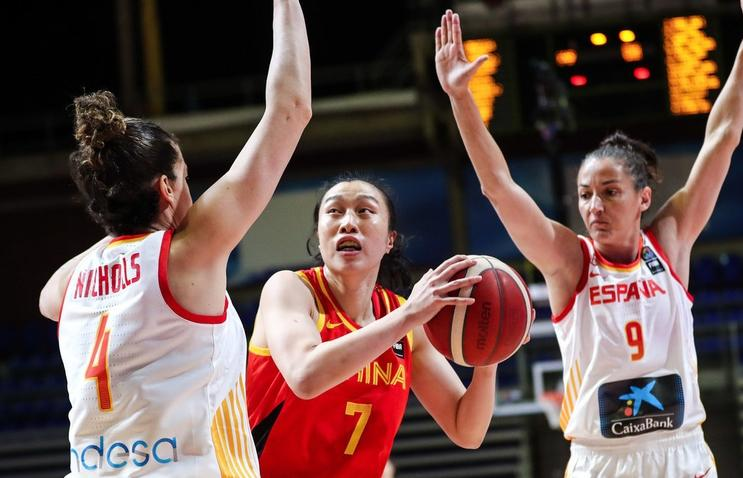ball: (420, 253, 532, 369)
